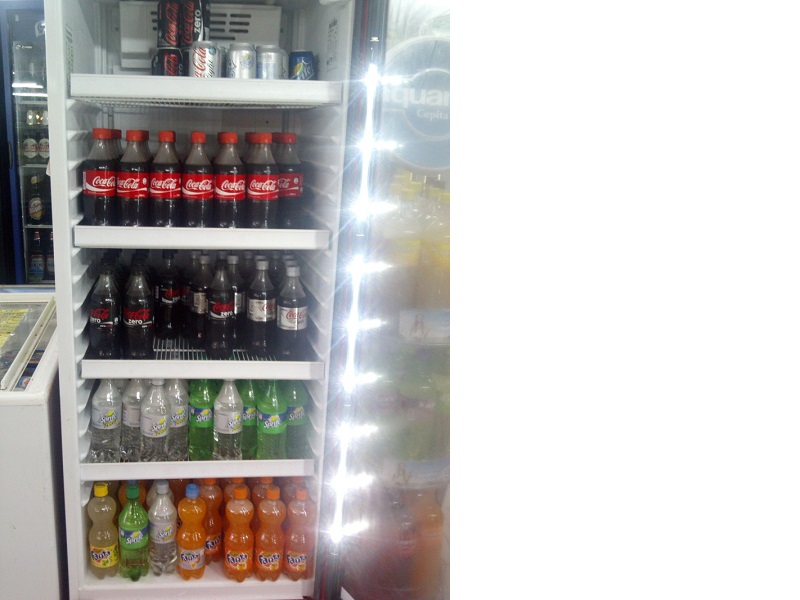lemonade: (275, 263, 319, 367), (114, 124, 156, 230), (242, 132, 285, 234), (80, 126, 120, 234), (149, 126, 187, 234), (221, 483, 262, 582), (180, 132, 220, 232), (201, 258, 240, 358), (115, 485, 153, 585), (86, 481, 123, 582), (254, 485, 288, 585), (177, 481, 209, 585)
